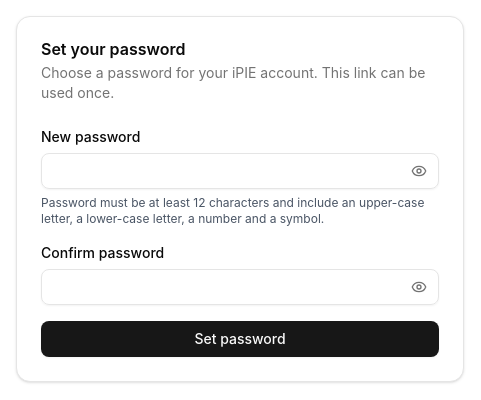
Test: SetPasswordPage › posts the token from the URL together with the chosen password
In the password field labelled "New password": [240, 171] box x1=41 y1=153 x2=439 y2=189, type "E2eTestPass!23"
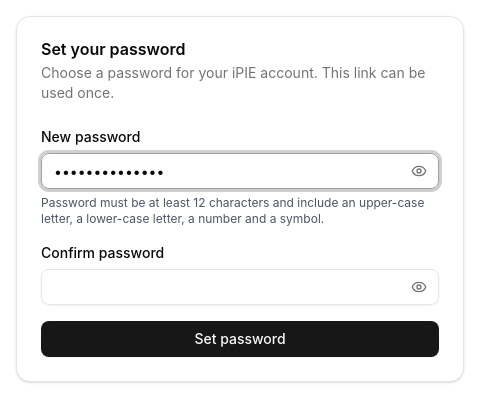
In the password field labelled "Confirm password": [240, 287] box x1=41 y1=269 x2=439 y2=305, type "E2eTestPass!23"
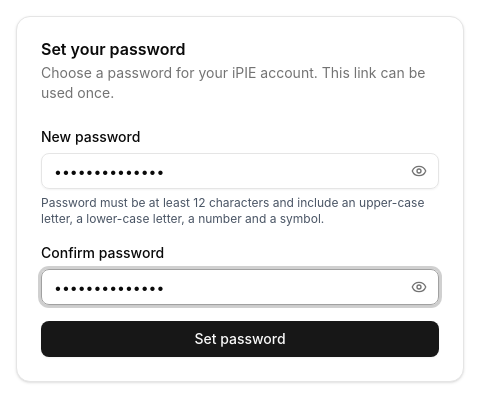
Click the button "Set password": [240, 339] box x1=41 y1=321 x2=439 y2=357
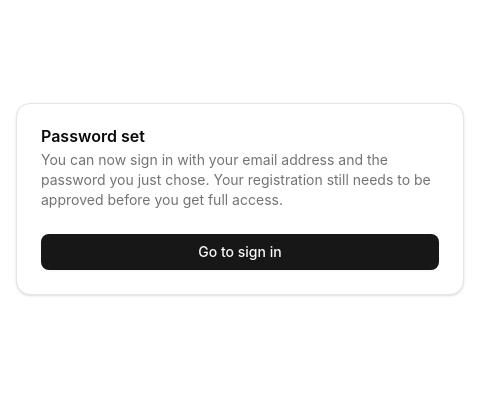
expect the text "Password set" is shown: met, box x1=41 y1=126 x2=145 y2=146
